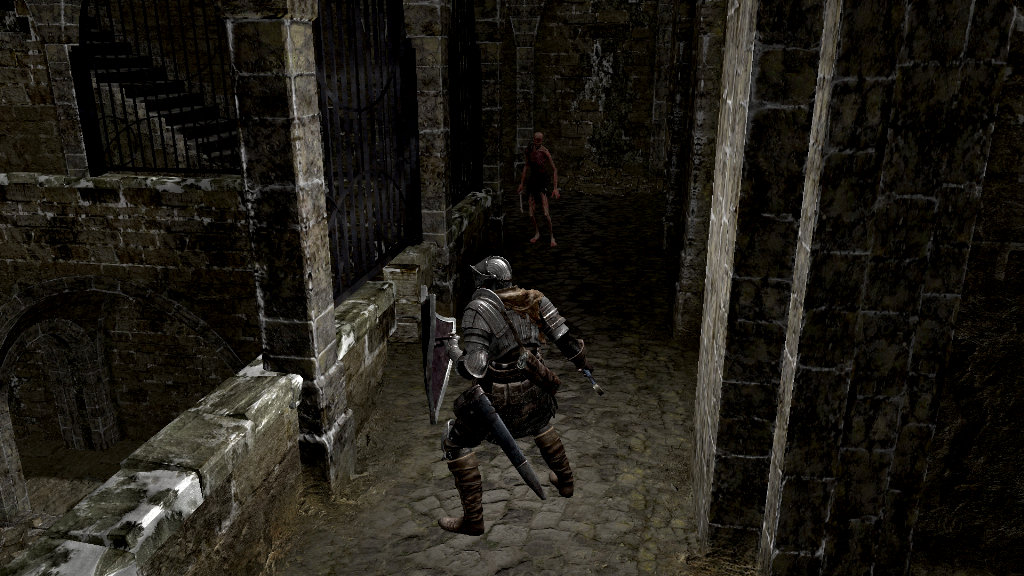hollow: (518, 132, 562, 249)
player: (417, 252, 610, 536)
